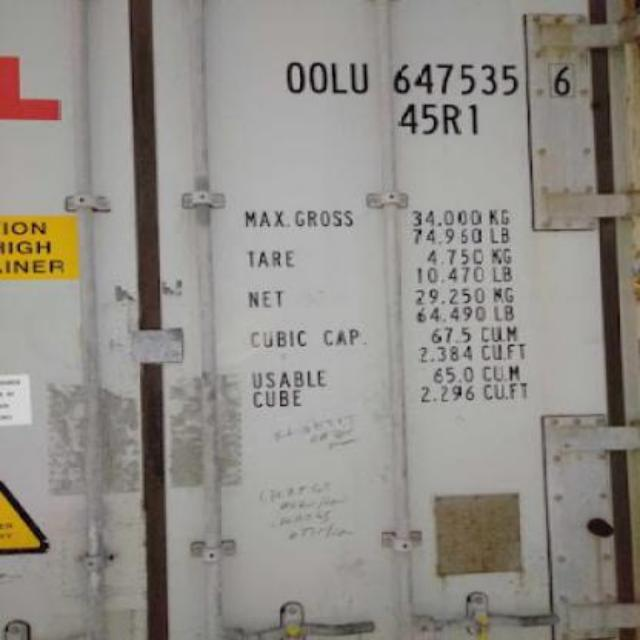3: (478, 60, 498, 100)
4: (414, 52, 436, 98)
5: (498, 59, 522, 99), (454, 58, 476, 98)
6: (550, 59, 578, 99), (388, 56, 412, 100)
7: (436, 55, 454, 99)
L: (328, 51, 348, 95)
O: (280, 52, 306, 94), (304, 53, 328, 97)
U: (348, 55, 374, 99)
